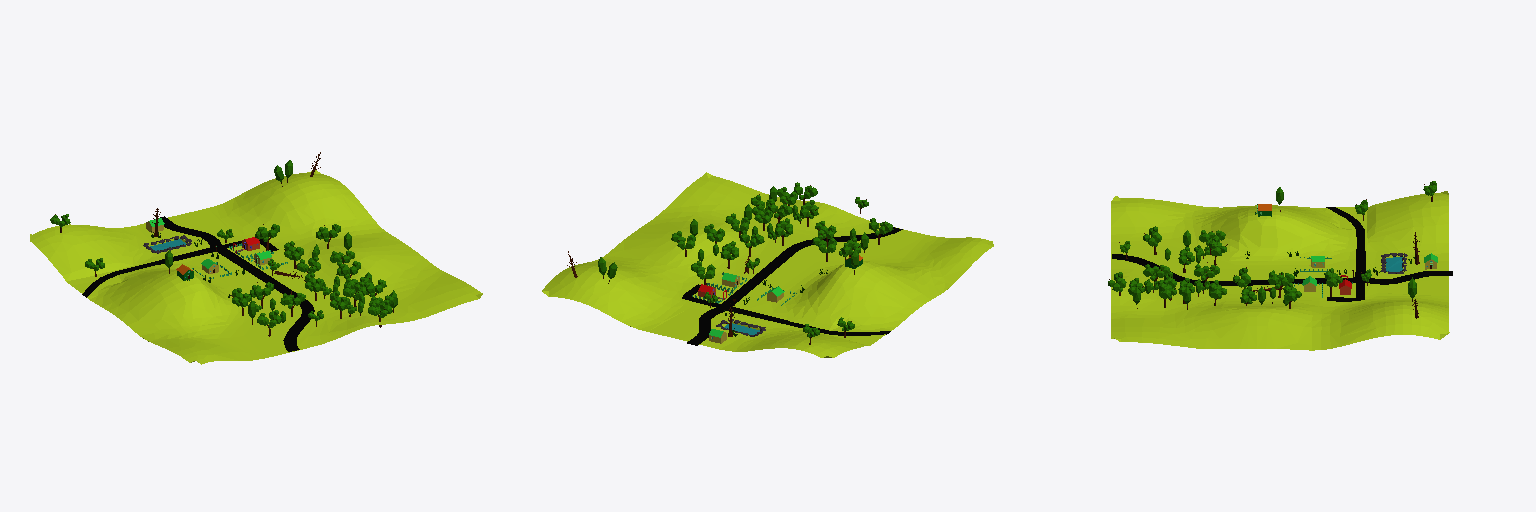
Rendered from Free_Cartoon_Land_2.obj.
3 renders of one model, left to right at view 1: azimuth 30°, elevation 25°; view 2: azimuth 150°, elevation 25°; view 3: azimuth 270°, elevation 25°, orthographic.
Parts seen in each view (by area): view 1: Landscape_Plane, Road_Cube.001; view 2: Landscape_Plane, Road_Cube.001; view 3: Landscape_Plane, Road_Cube.001.
Boxes of the visible parts, x1=… form: Landscape_Plane: x1=30, y1=170, x2=482, y2=364; Road_Cube.001: x1=82, y1=216, x2=314, y2=351; Landscape_Plane: x1=542, y1=172, x2=993, y2=357; Road_Cube.001: x1=682, y1=227, x2=902, y2=345; Landscape_Plane: x1=1111, y1=191, x2=1449, y2=350; Road_Cube.001: x1=1112, y1=207, x2=1452, y2=301.
Bounding box in the file's own units: 70.17 × 12.52 × 71.73.